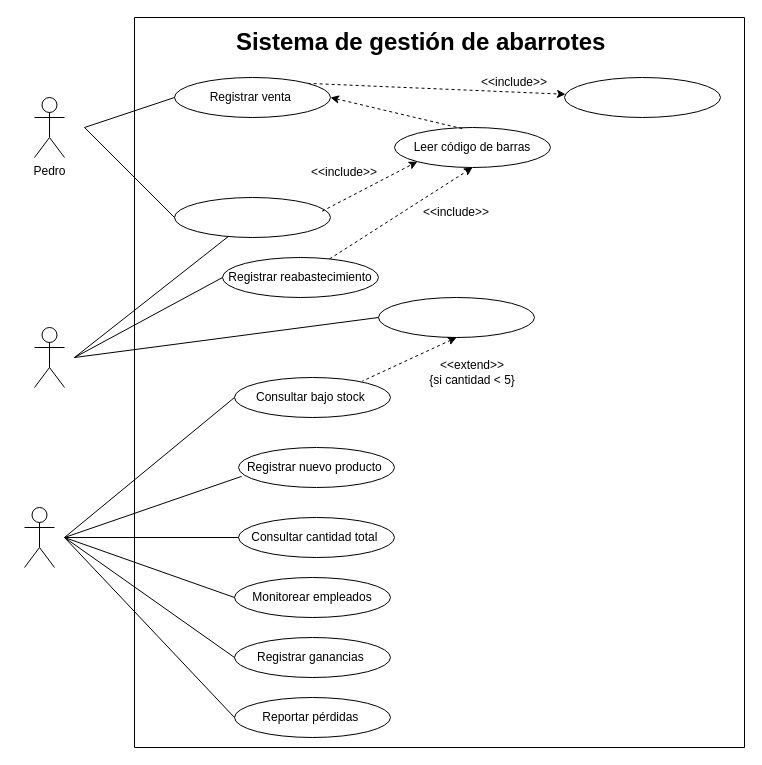
This 762x765 diagram has some shape labels left out. Each missing label, with the centre of its shape:
"Consultar stock individual" belongs at point (252, 217).
"Eugenia" belongs at point (39, 537).
"Generar ticket" belongs at point (642, 97).
"Pancho" belongs at point (49, 357).
"Solicitar pedido a provedor" belongs at point (456, 317).
